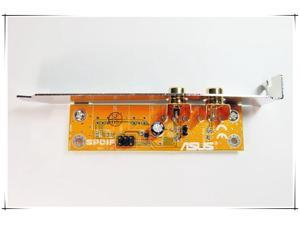capacitor: (151, 122, 165, 136)
